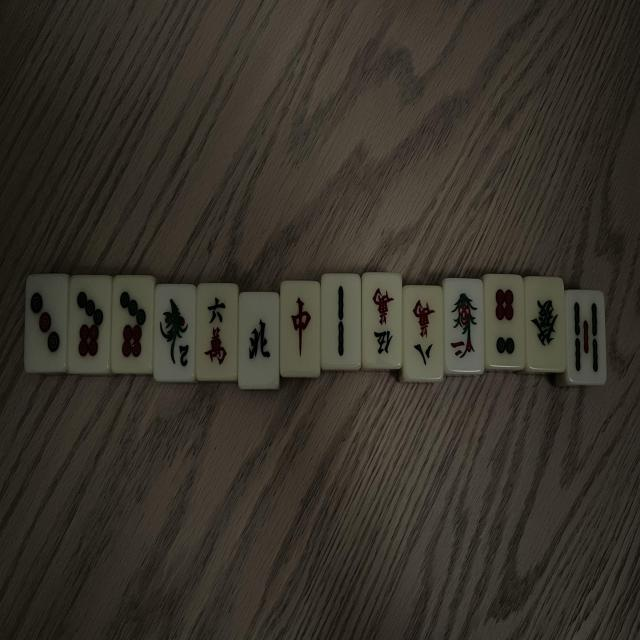f2: (154, 286, 196, 383)
fa: (525, 279, 565, 372)
ff2: (444, 279, 484, 372)
m5: (362, 273, 403, 368)
m6: (196, 286, 237, 380)
m8: (404, 286, 445, 381)
north: (240, 296, 280, 388)
s2: (320, 276, 360, 369)
s5: (567, 289, 607, 384)
t3: (26, 275, 70, 373)
t6: (484, 277, 525, 369)
t7: (112, 277, 156, 376), (70, 275, 114, 373)
zhong: (283, 282, 322, 374)
